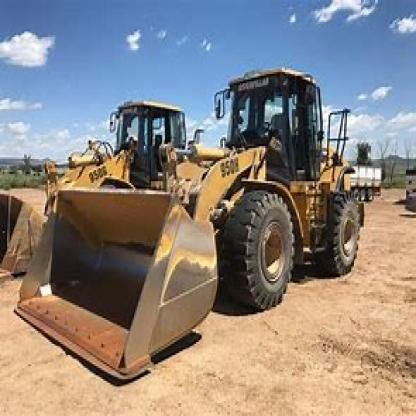bull_dozer/loader/grader: (16, 59, 370, 387)
